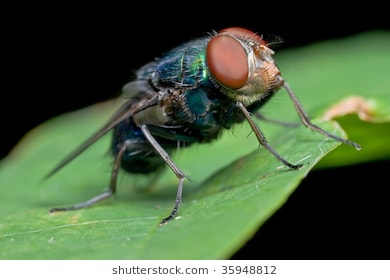green bottles flies: (39, 18, 357, 236)
